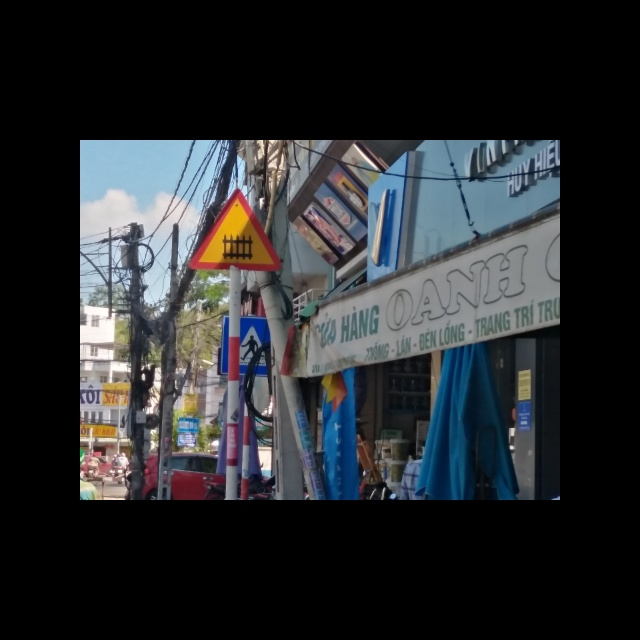Giao nhau với đường sắt có rào chắn: (185, 190, 278, 272)
